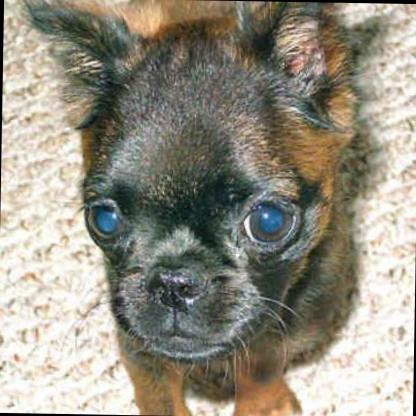Brabancon_griffon: (5, 0, 360, 416)
